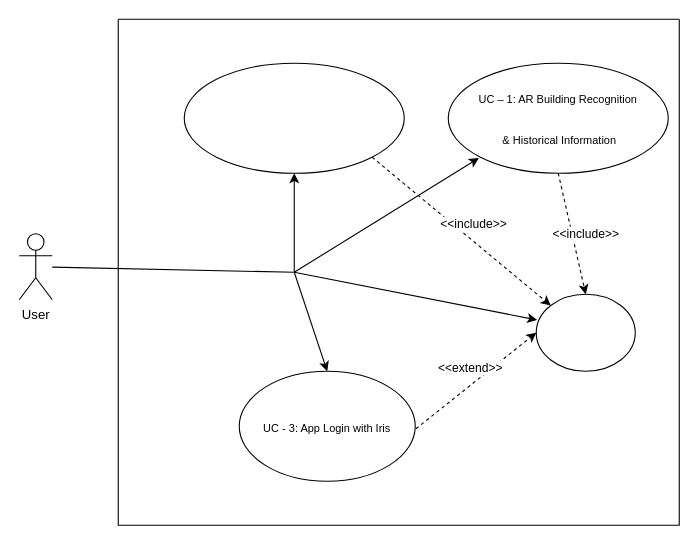
The diagram is 699 pixels wide and 545 high, and some of its shapes have lost their labels. The centre of each missing label's shape, as x and y in pixels:
"Login" goes at point 585,332.
"UC – 2: Guided AR Route Navigation" goes at point 293,117.
